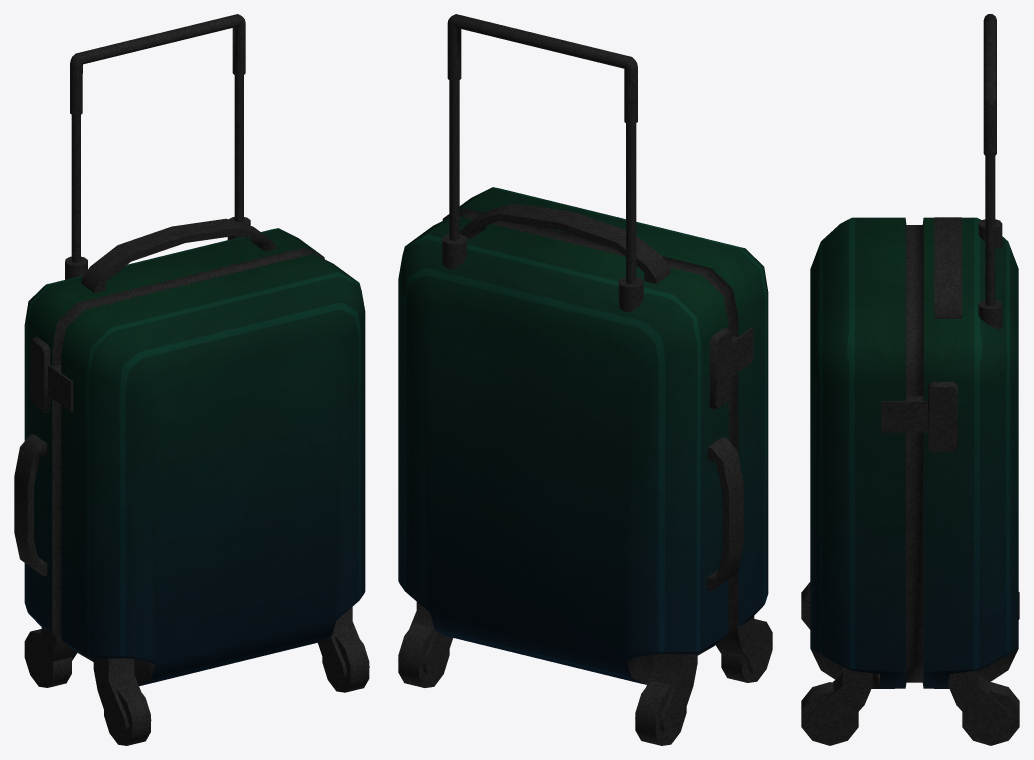
File: suitcase_4.fbx
The picture shows the model from 3 angles, left to right: view 1: azimuth 30°, elevation 25°; view 2: azimuth 150°, elevation 25°; view 3: azimuth 270°, elevation 25°; orthographic projection. The views are drawn at different scales.
Parts seen in each view (by area): view 1: suitcase_4; view 2: suitcase_4; view 3: suitcase_4.
Part boxes in pixels (box(x1,y1,x2,y2)): suitcase_4: box(14, 14, 369, 745); suitcase_4: box(398, 14, 772, 745); suitcase_4: box(801, 14, 1019, 745).
Size of the model in its own units: 0.7689 by 1.52 by 0.4749.
